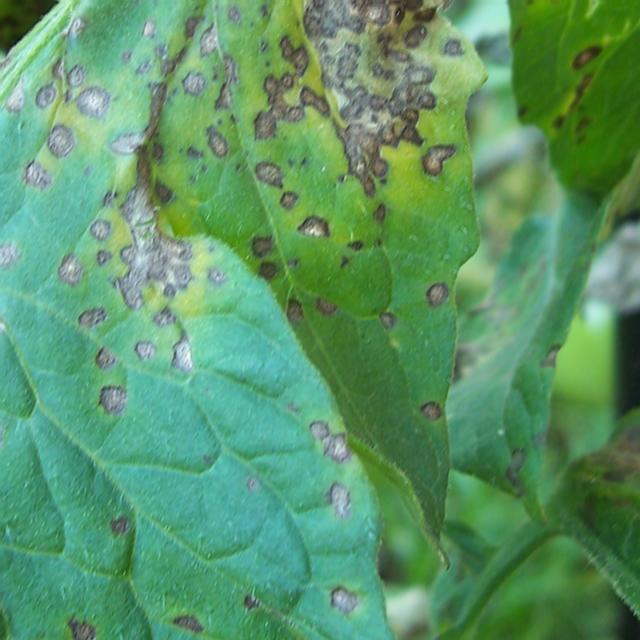Tomato Septoria leaf spot: (0, 0, 458, 640), (351, 0, 640, 220)
